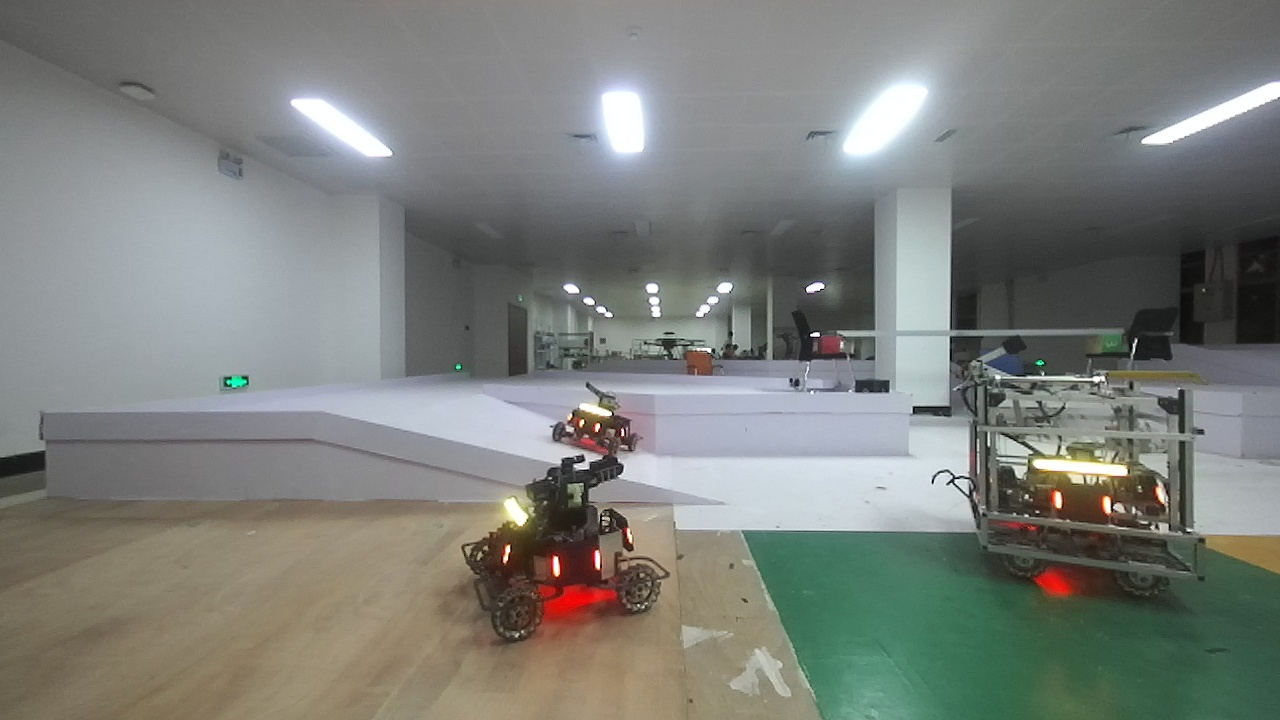car: (939, 362, 1232, 612), (446, 466, 683, 651), (544, 377, 658, 460)
